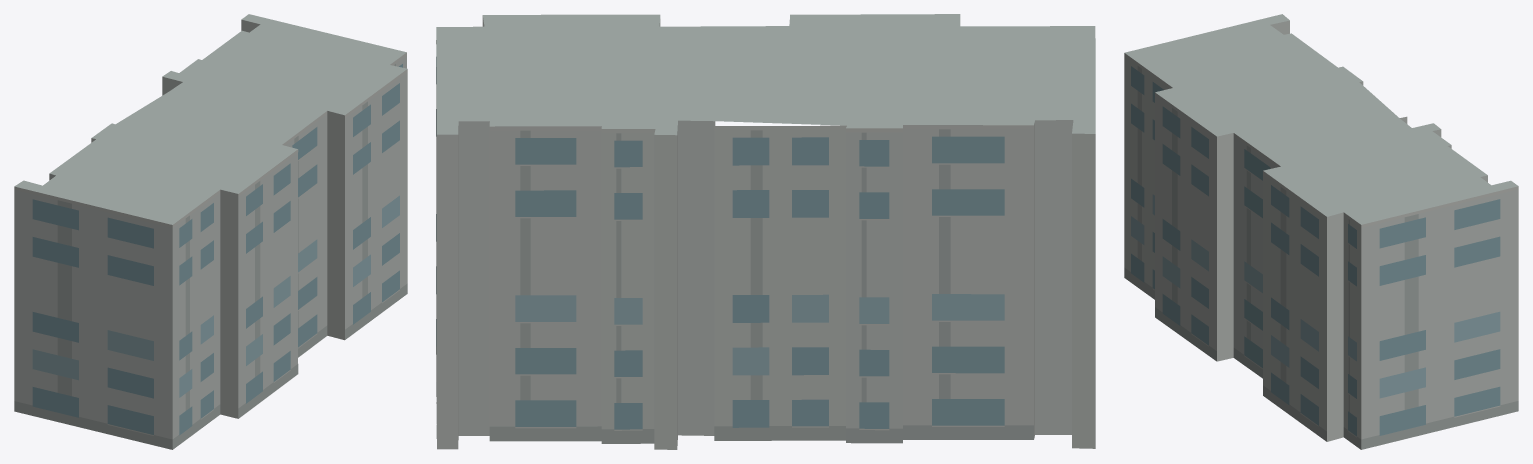
The model's file is survey-upis-32833304.glb.
3 views of the same model, side by side, from view 1: azimuth 30°, elevation 25°; view 2: azimuth 150°, elevation 25°; view 3: azimuth 270°, elevation 25° (orthographic). The views are drawn at different scales.
Visible parts, largest first — view 1: survey-upis-32833304.tmp; view 2: survey-upis-32833304.tmp; view 3: survey-upis-32833304.tmp.
Boxes of the visible parts, x1,y1,x2,y2 form: survey-upis-32833304.tmp: (14, 14, 407, 449); survey-upis-32833304.tmp: (436, 14, 1095, 449); survey-upis-32833304.tmp: (1124, 14, 1518, 449).
Size of the model in its own units: 35.38 by 17.6 by 27.96.
